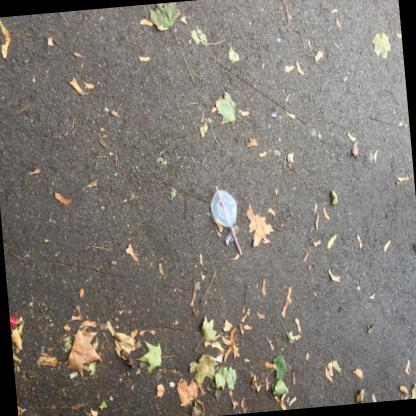Plastic: (214, 186, 241, 256), (210, 190, 236, 227)
Waste: (9, 316, 17, 328)
